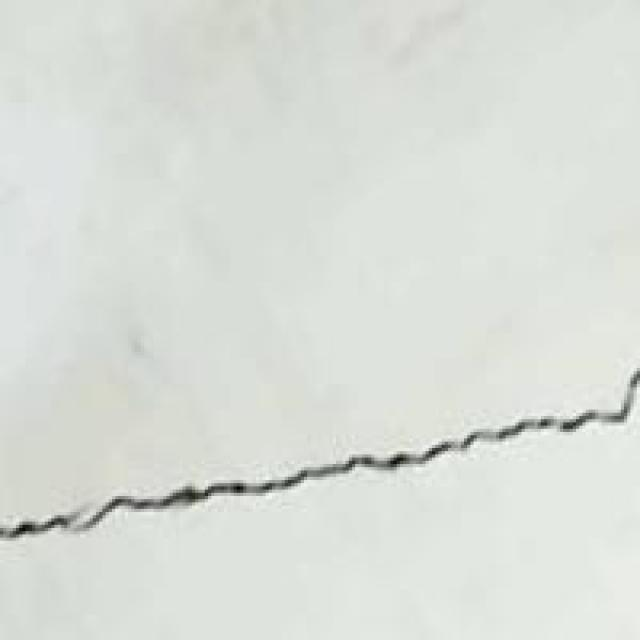crack: (3, 365, 637, 611)
